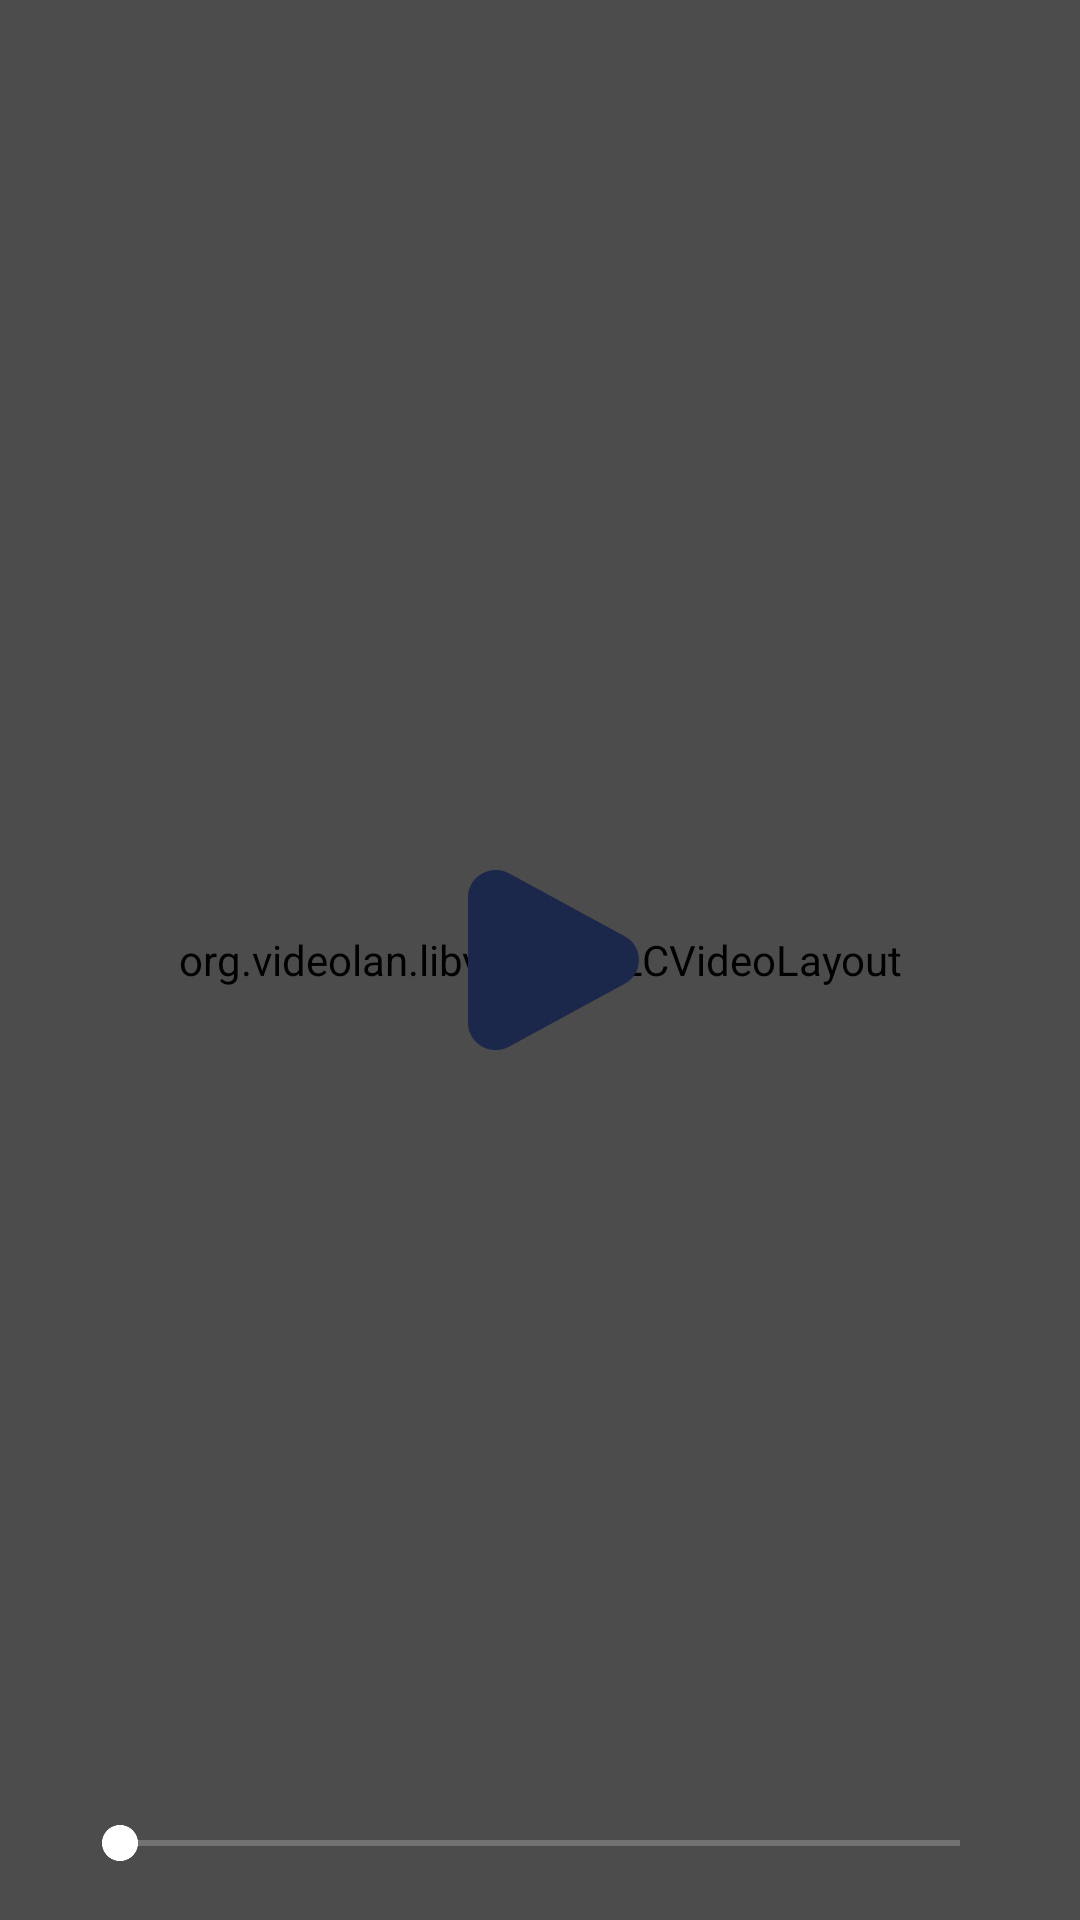

Icon click points for this 1080x1920 phone screenshot, format (x=x, y=y):
Play or Pause: (x=537, y=960)
